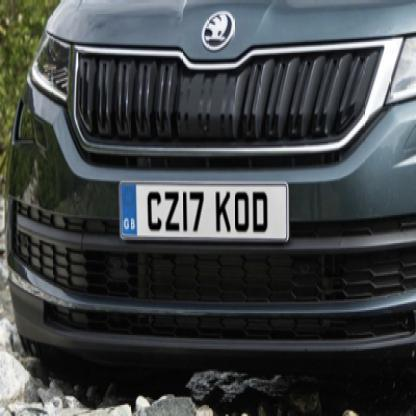licence: (120, 173, 280, 255)
